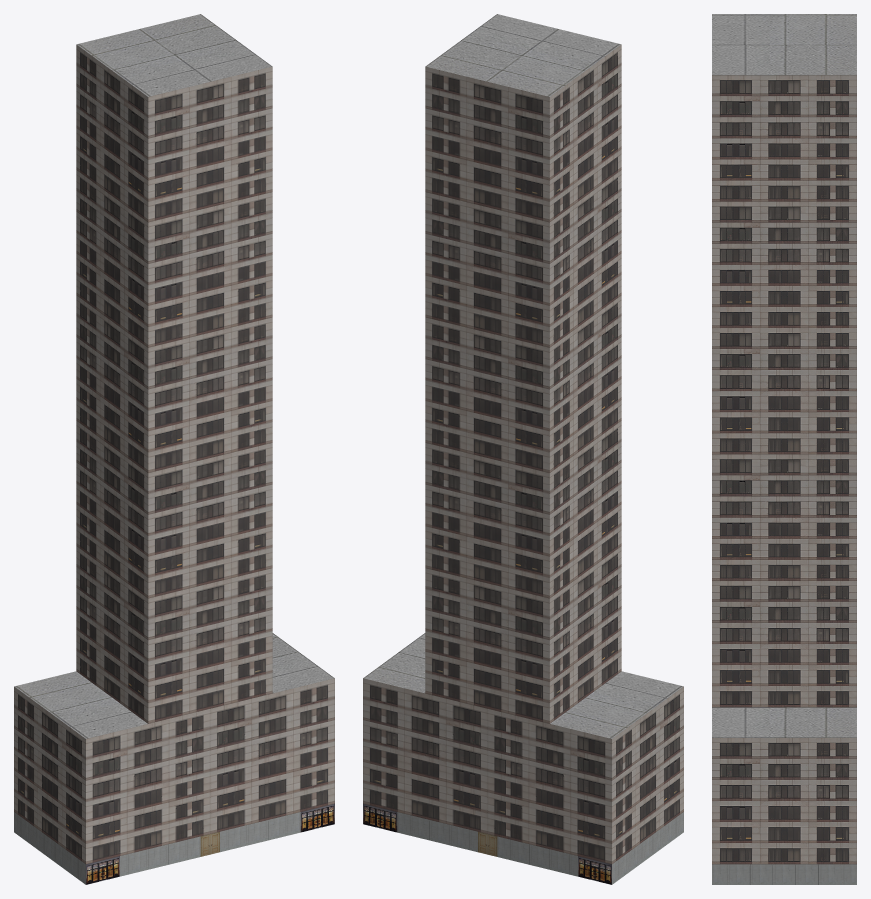
The model's file is Building055.fbx.
3 views of the same model, side by side, from view 1: azimuth 30°, elevation 25°; view 2: azimuth 150°, elevation 25°; view 3: azimuth 270°, elevation 25° (orthographic).
Visible parts, largest first — view 1: Building055; view 2: Building055; view 3: Building055.
Part boxes in pixels (box(x1,y1,x2,y2)): Building055: box(14, 14, 334, 884); Building055: box(363, 14, 683, 884); Building055: box(712, 14, 856, 884).
Bounding box in the file's own units: 31.53 × 93.55 × 15.77.
